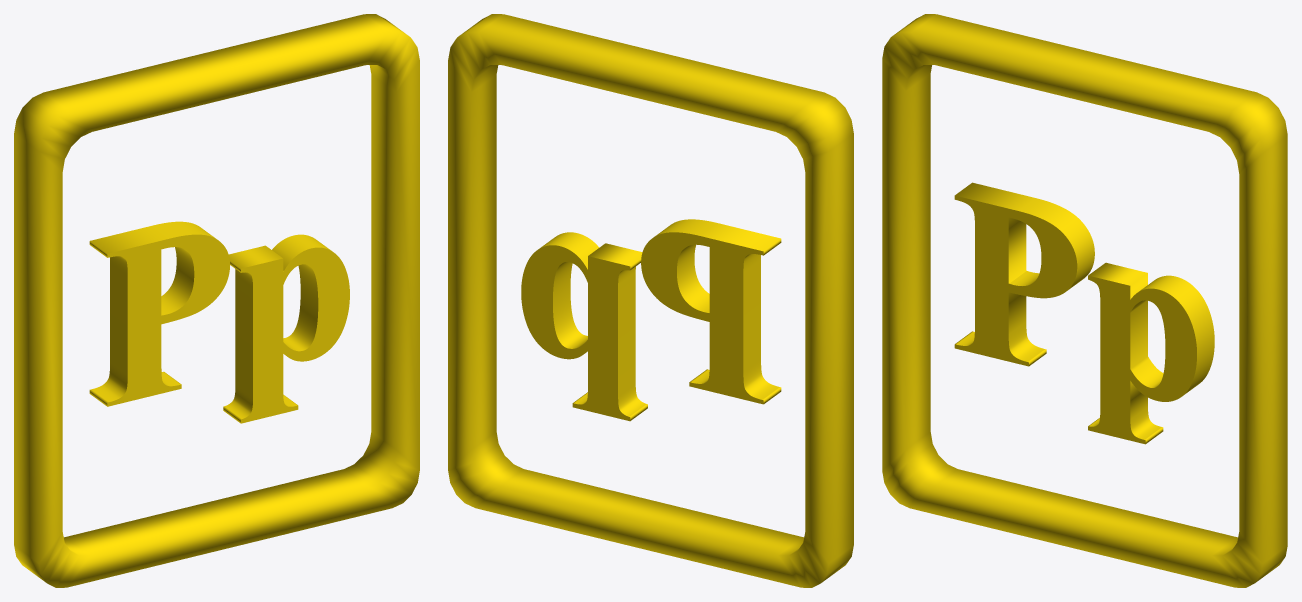
File: Letter_P.gltf
3 renders of one model, left to right at view 1: azimuth 30°, elevation 25°; view 2: azimuth 150°, elevation 25°; view 3: azimuth 330°, elevation 25°, orthographic.
Parts seen in each view (by area): view 1: Letters.017; view 2: Letters.017; view 3: Letters.017.
Boxes of the visible parts, left/top/right/bottom form: Letters.017: left=14, top=14, right=419, bottom=587; Letters.017: left=448, top=14, right=853, bottom=587; Letters.017: left=882, top=14, right=1287, bottom=587.
Bounding box in the file's own units: 1.25 × 1.49 × 0.1418.
